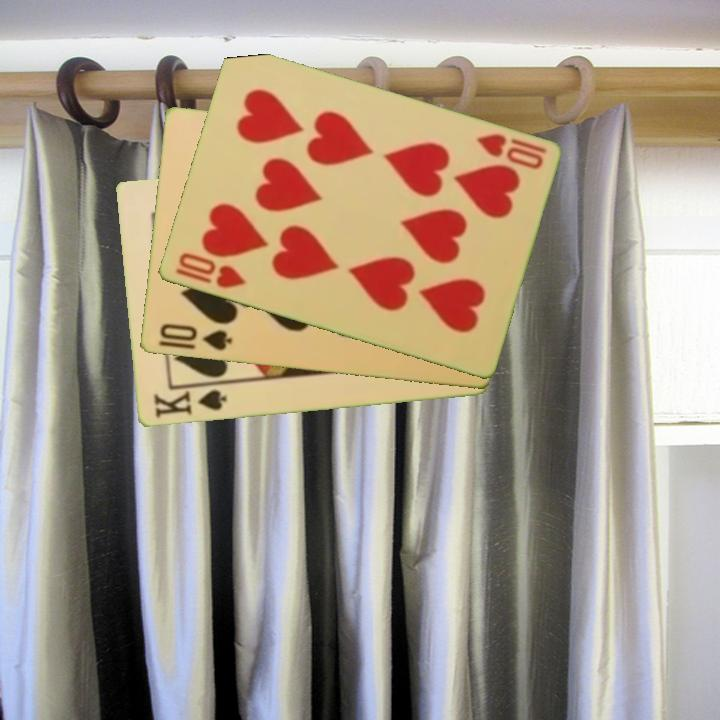10h: (171, 249, 249, 292), (473, 130, 549, 173)
10s: (156, 320, 235, 354)
Ks: (150, 382, 230, 421)
